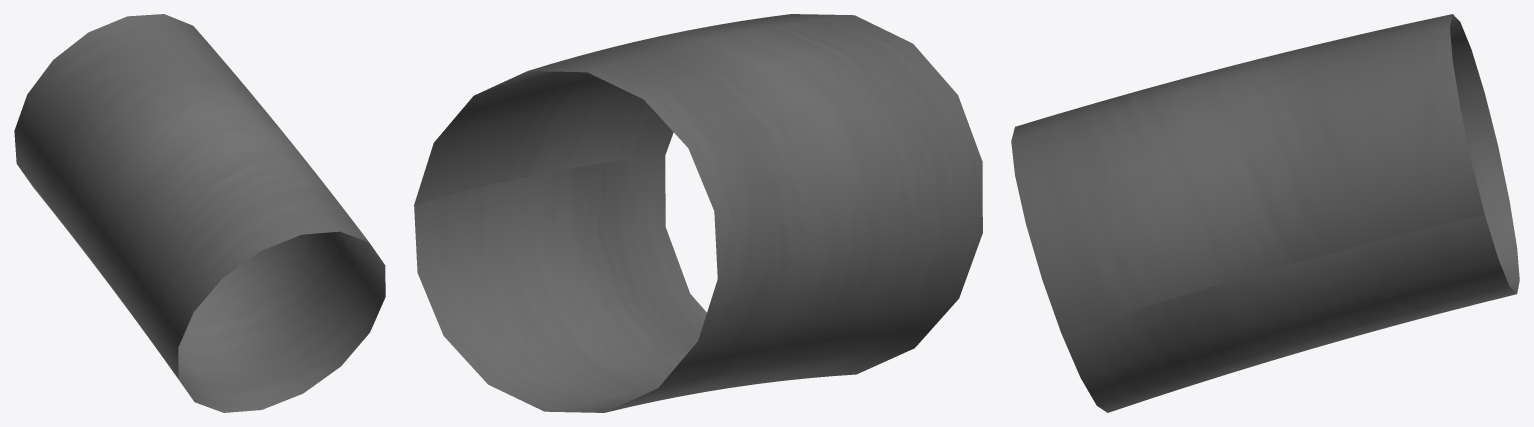
The model's file is mastarmcurve_4x1_c2.obj.
3 views of the same model, side by side, from view 1: azimuth 30°, elevation 25°; view 2: azimuth 150°, elevation 25°; view 3: azimuth 270°, elevation 25° (orthographic). The views are drawn at different scales.
Visible parts, largest first — view 1: mastarm_4x1_c2; view 2: mastarm_4x1_c2; view 3: mastarm_4x1_c2.
Boxes of the visible parts, left/top/right/bottom form: mastarm_4x1_c2: left=14, top=14, right=385, bottom=412; mastarm_4x1_c2: left=414, top=14, right=982, bottom=412; mastarm_4x1_c2: left=1011, top=14, right=1519, bottom=412.
Size of the model in its own units: 0.5884 by 0.8002 by 0.9947.
